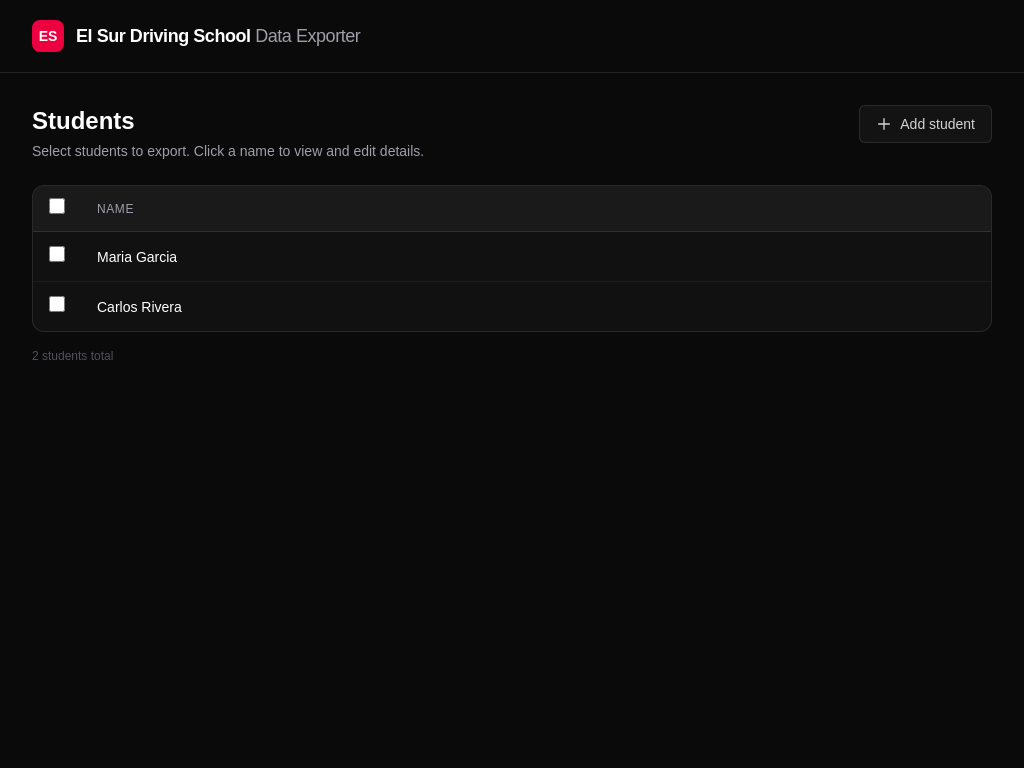
Test case: Detail modal › displays all student fields in the modal
Click the text "Maria Garcia". click: coordinates (137, 256)
box: x1=81 y1=232 x2=991 y2=282
(page scrolled)
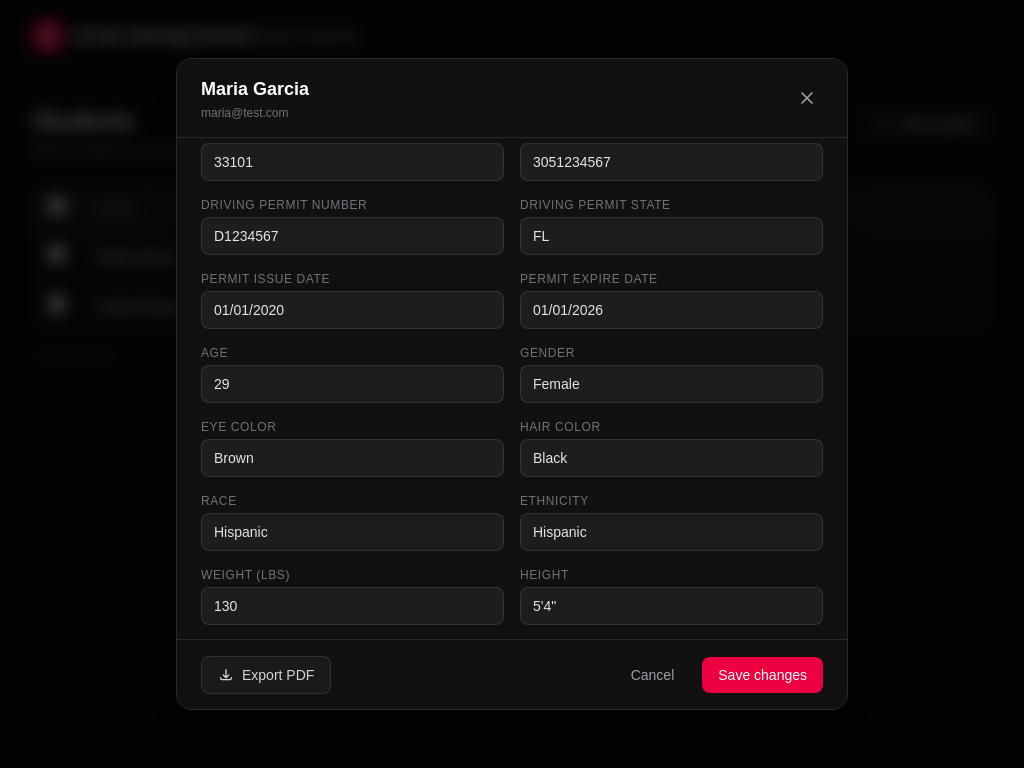
Check: the number field showing "29" below "Age" is shown, box x1=201 y1=365 x2=504 y2=403
